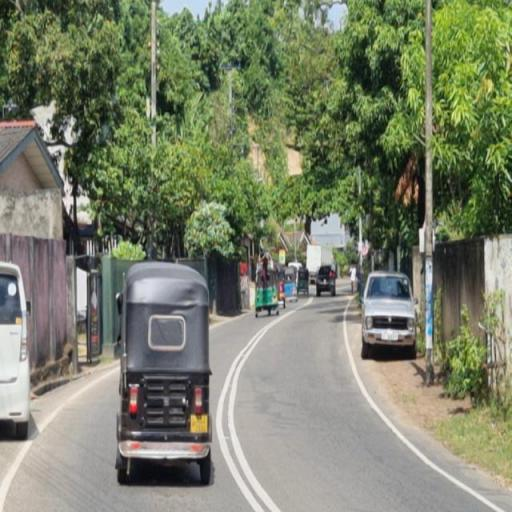double_white_line: (214, 310, 278, 511)
